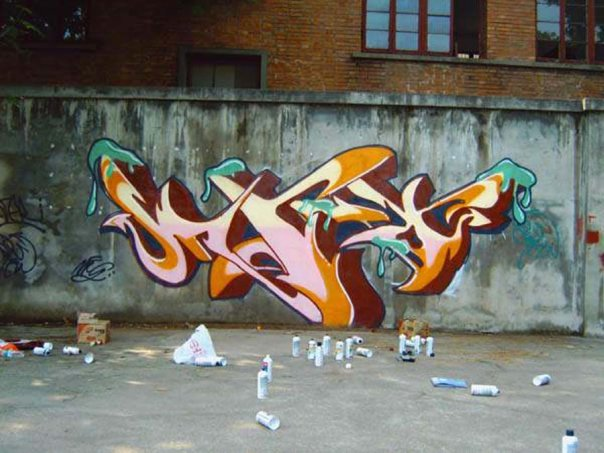graffity: (78, 129, 540, 332), (1, 178, 54, 290), (63, 248, 120, 289)
